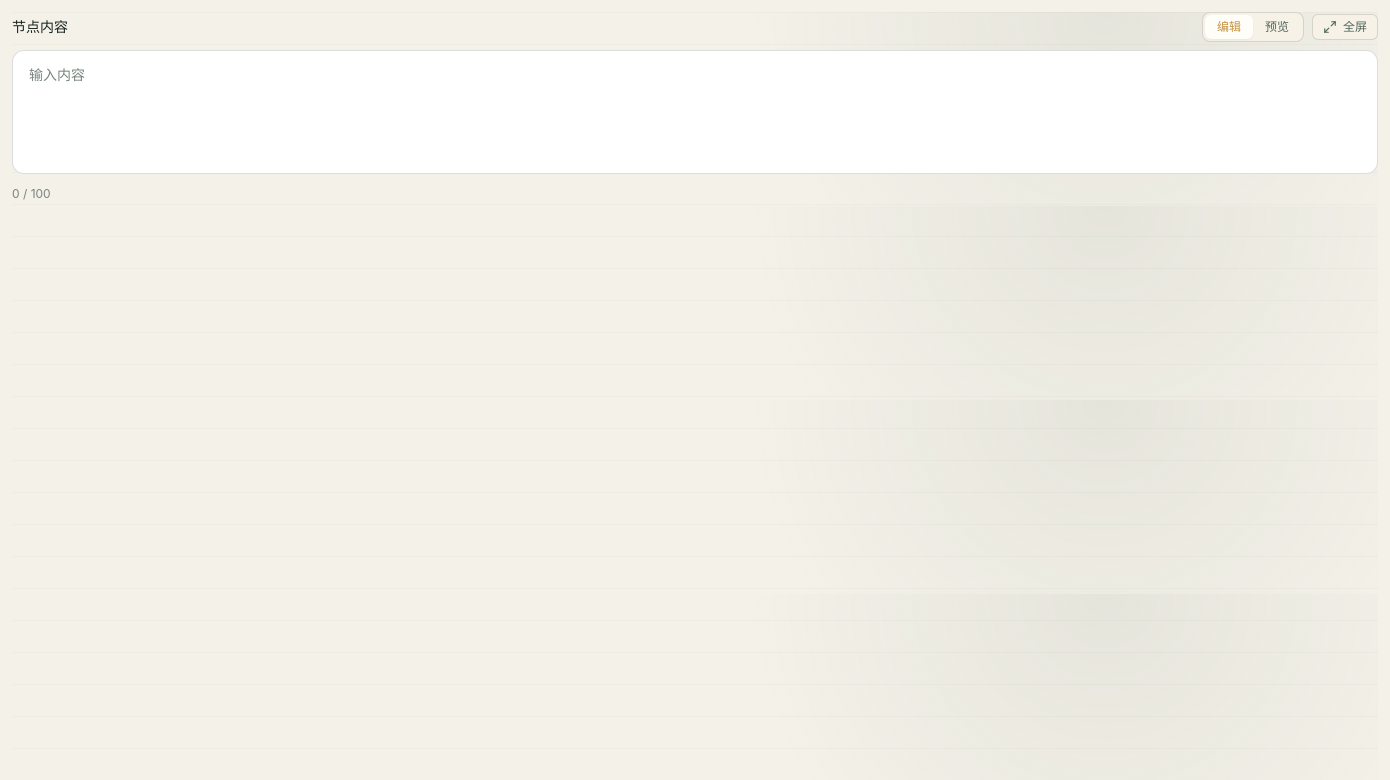
Test: MarkdownEditorField › 为空内容显示预览占位
Click the tab "预览": click(1277, 27) [1253,15,1301,39]
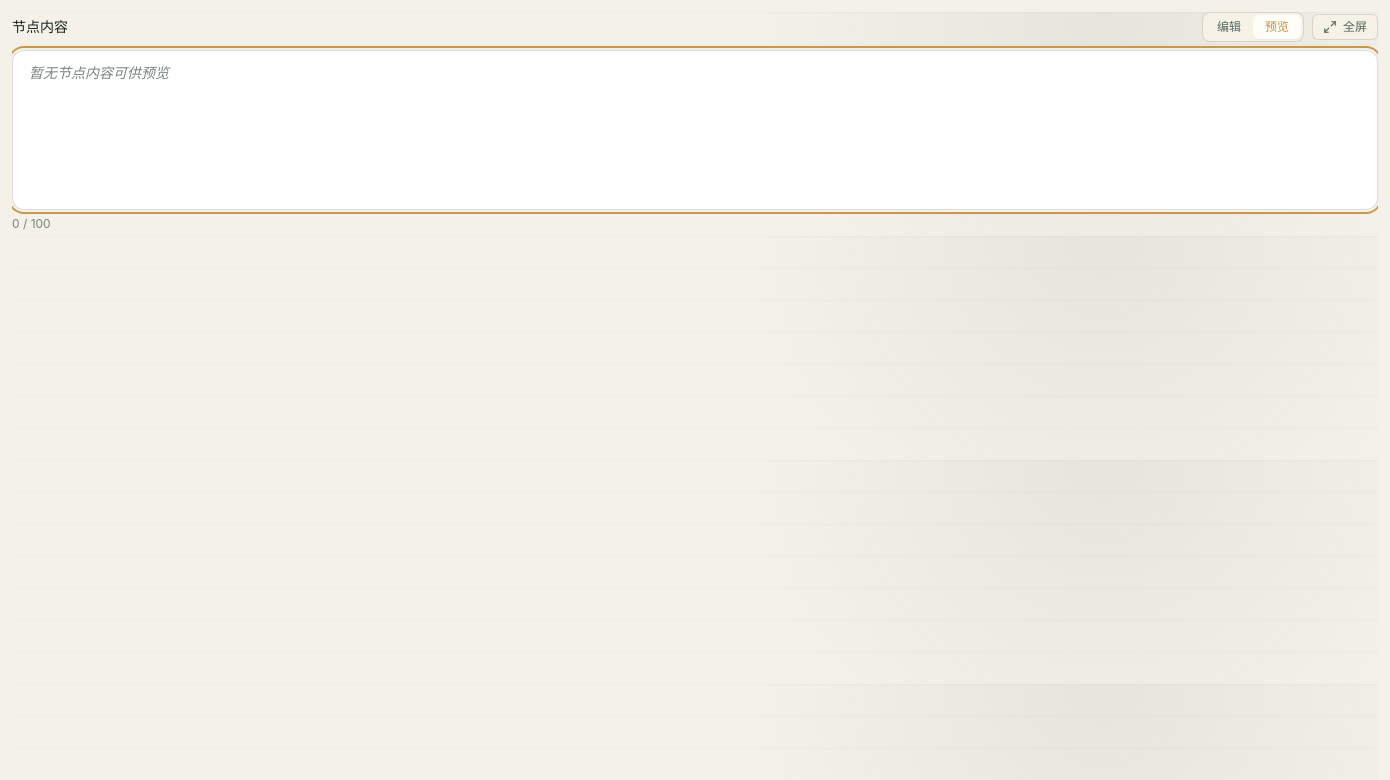
Expected: the text "暂无节点内容可供预览" is shown, [29,64,169,81]
